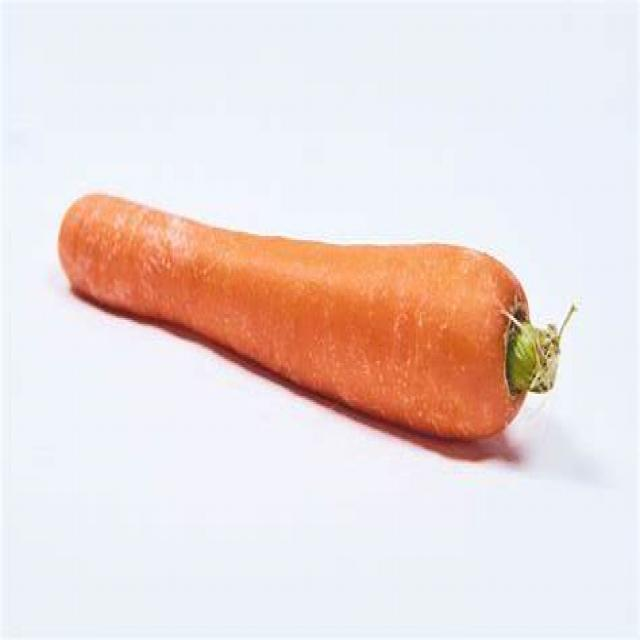Carrot: (54, 191, 575, 445)
